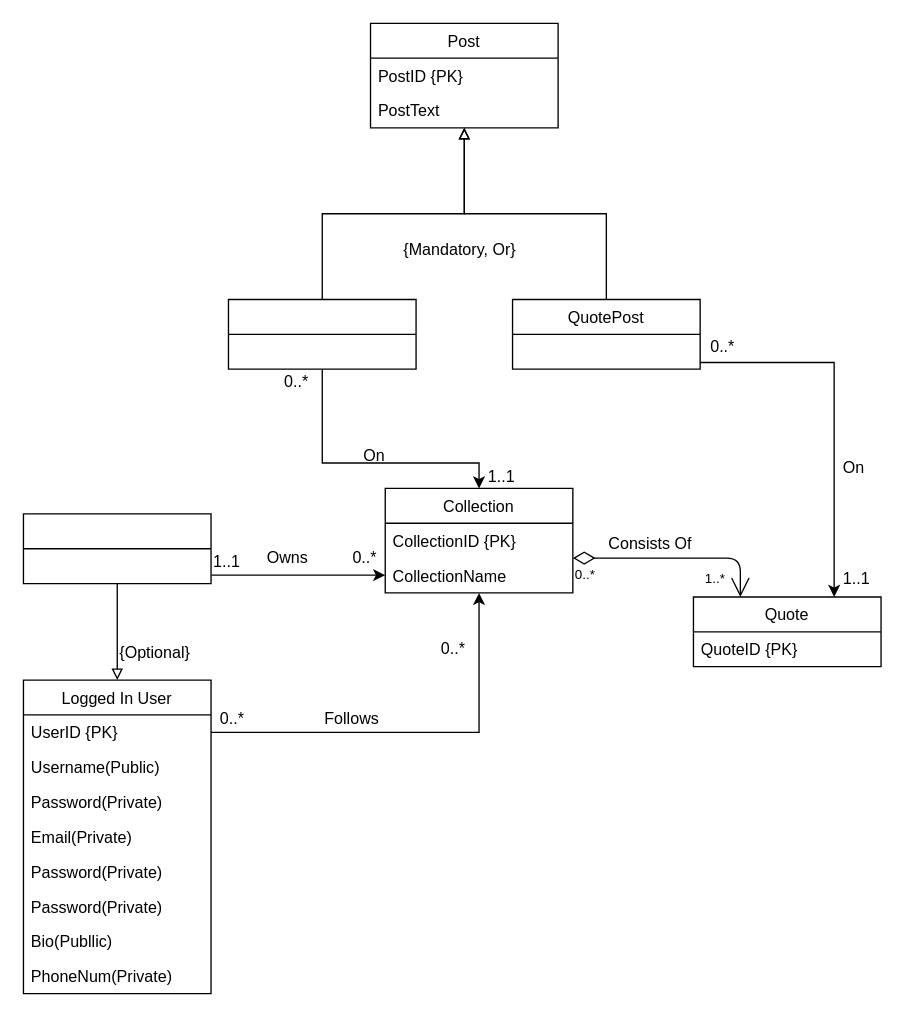
This 918x1021 diagram has some shape labels left out. Each missing label, with the centre of its shape:
CollectionPost: point (321, 333)
Premium User: point (116, 548)
